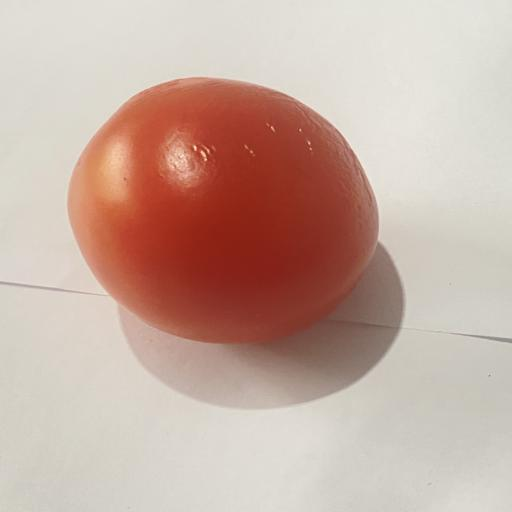overipe: (68, 77, 378, 343)
